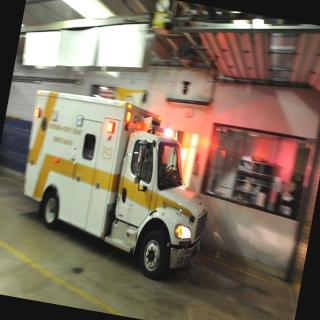Ambulance: (0, 71, 241, 295)
